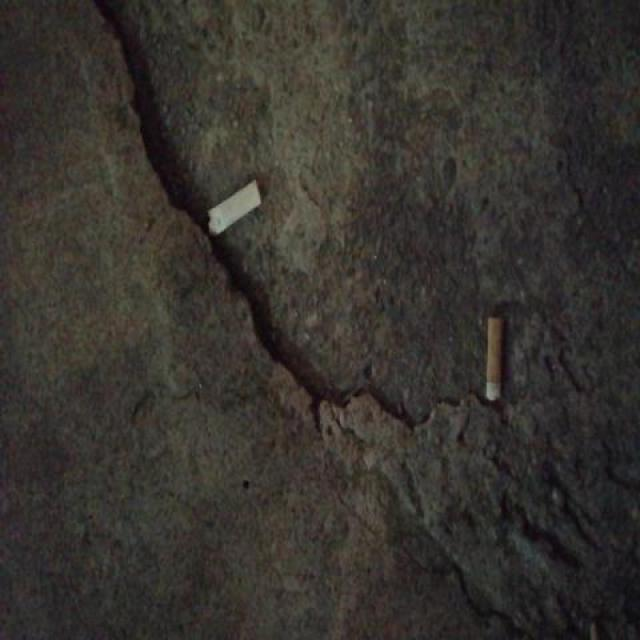non-organic waste: (205, 175, 267, 240), (482, 309, 510, 406)
